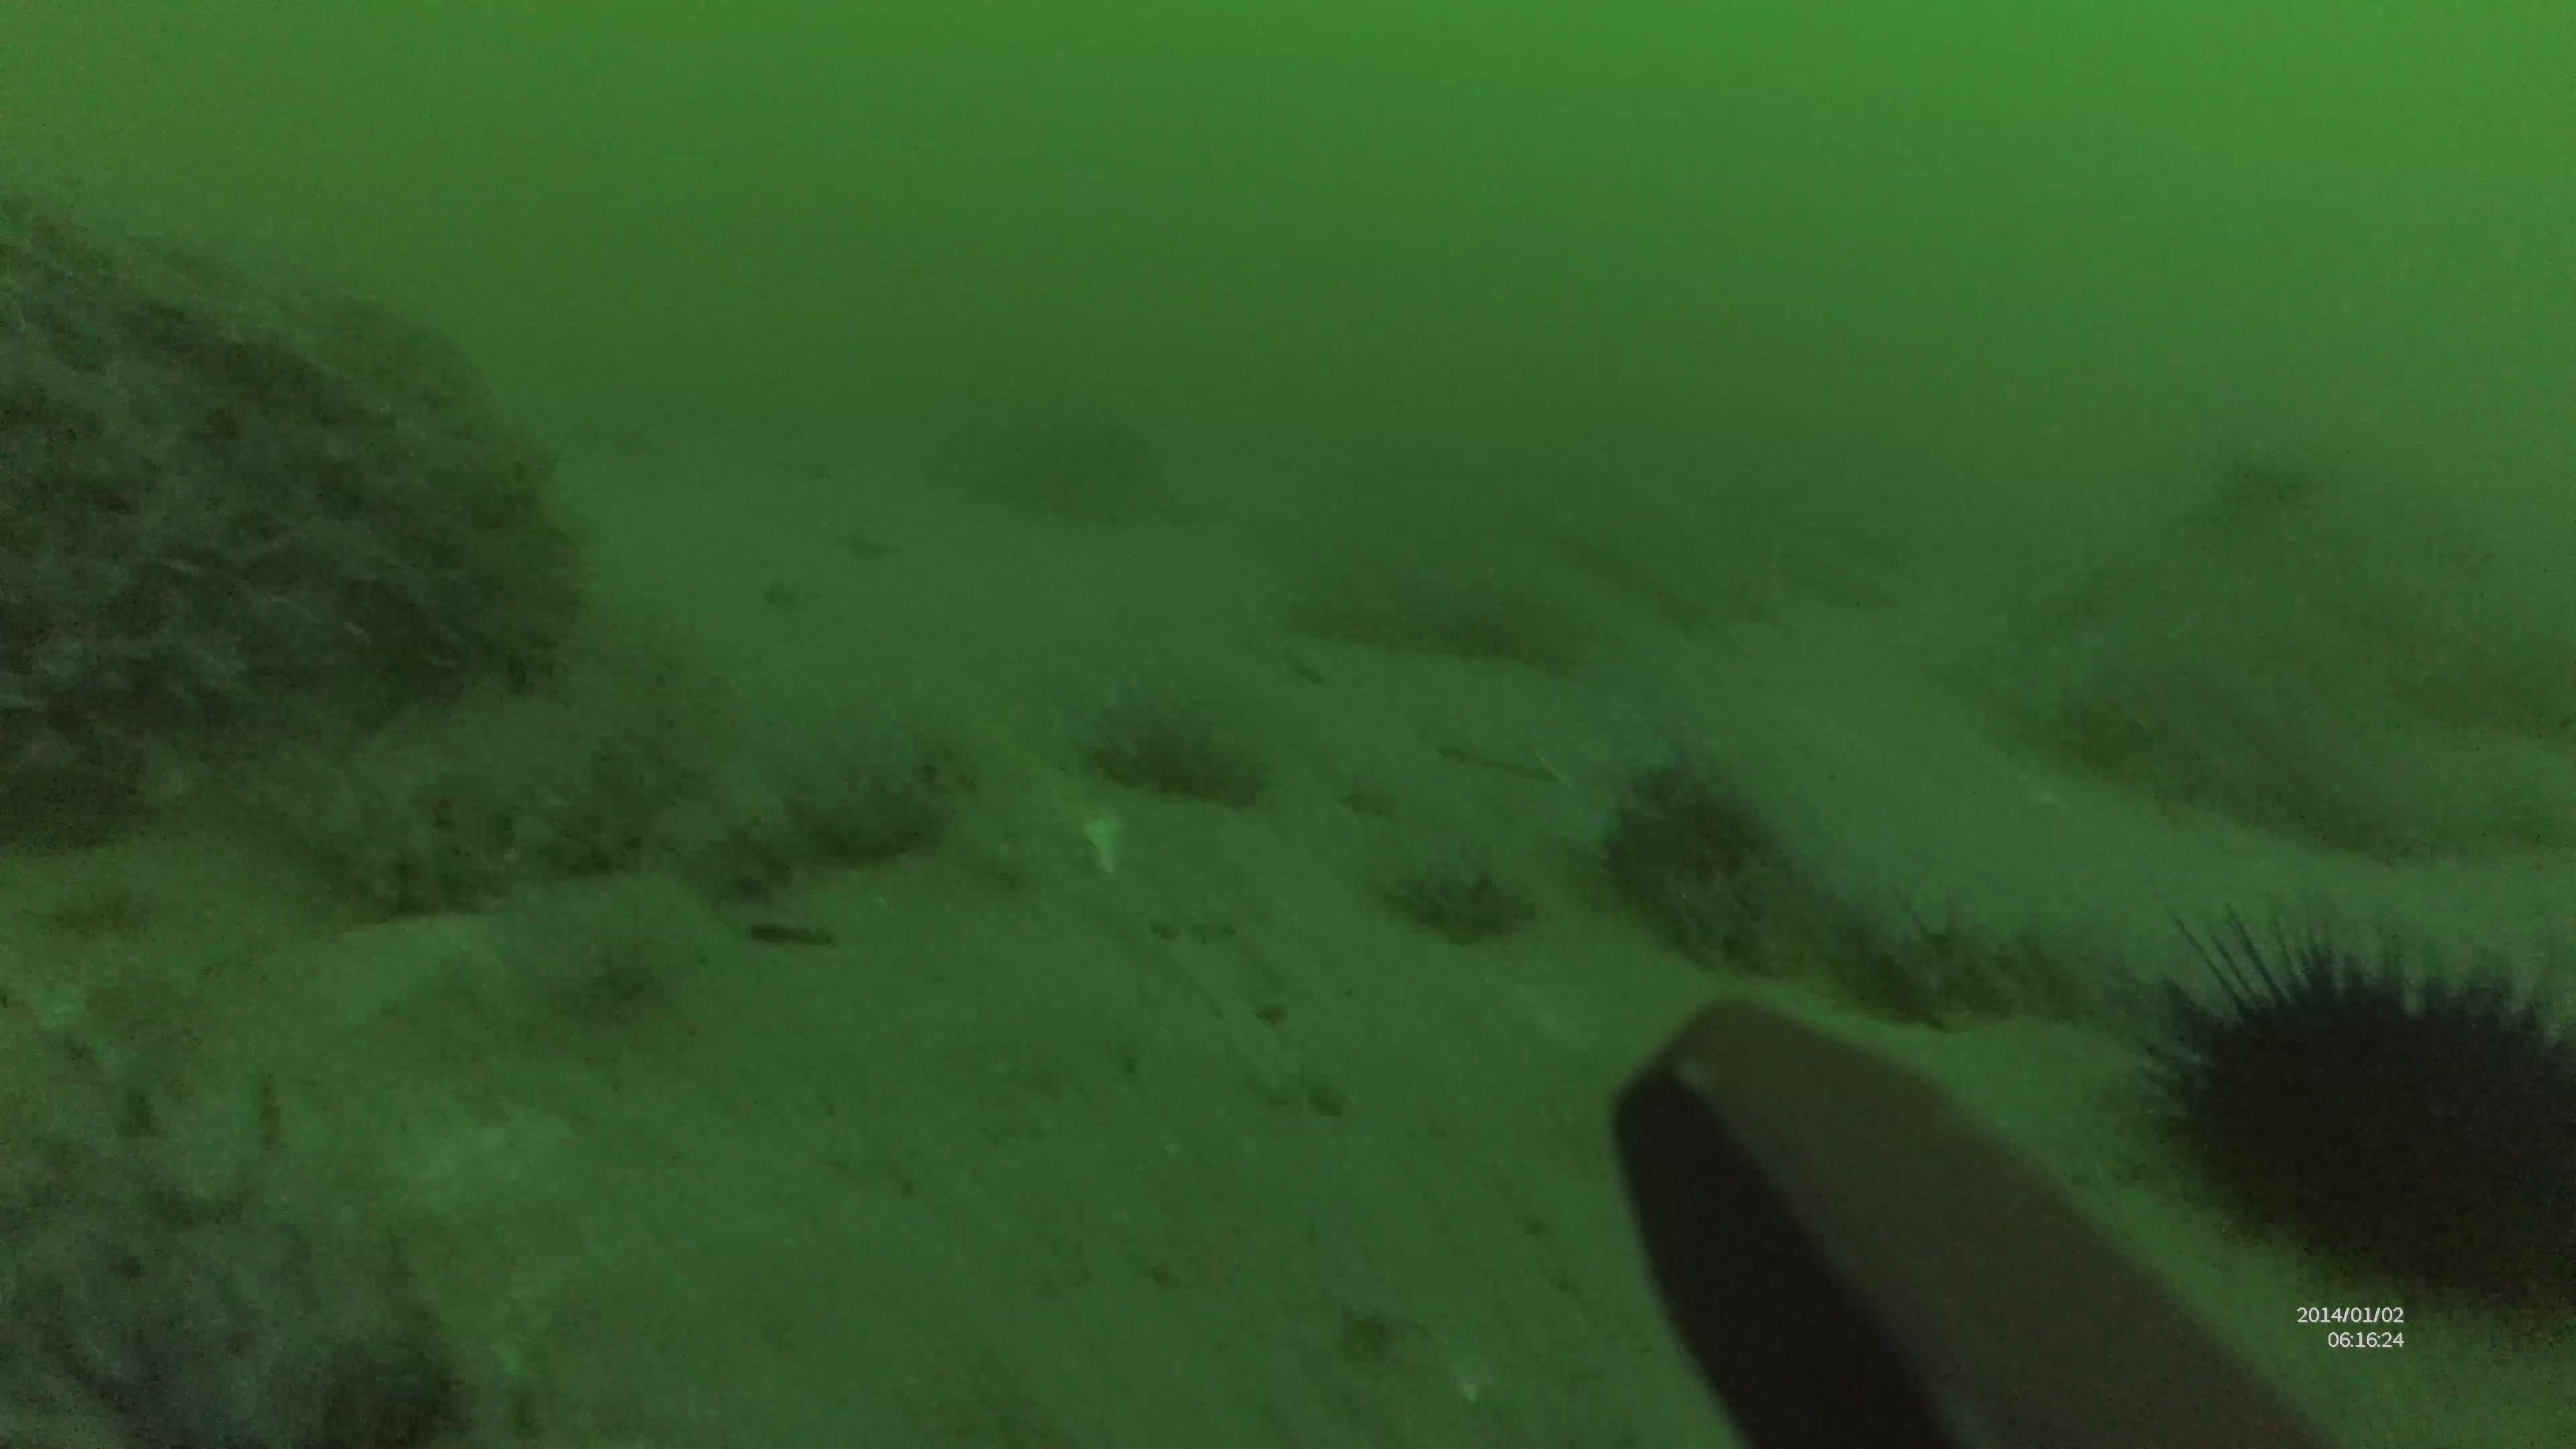echinus: (2130, 901, 2574, 1329)
